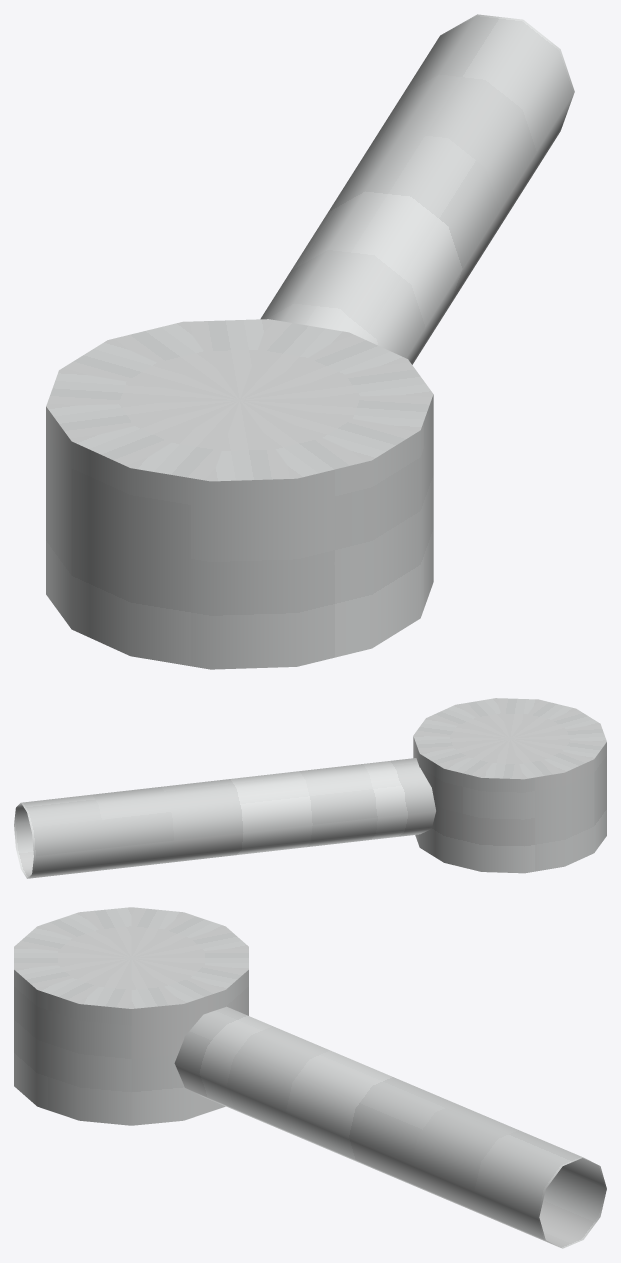
The model's file is trusssignalarm_diagonal8_c0.obj.
The picture shows the model from 3 angles, top to bottom: view 1: azimuth 30°, elevation 25°; view 2: azimuth 150°, elevation 25°; view 3: azimuth 270°, elevation 25°; orthographic projection. The views are drawn at different scales.
Visible parts, largest first — view 1: trusssignalarm_diagonal8_c0; view 2: trusssignalarm_diagonal8_c0; view 3: trusssignalarm_diagonal8_c0.
Boxes of the visible parts, box(x1,y1,x2,y2) form: trusssignalarm_diagonal8_c0: box(46, 14, 574, 669); trusssignalarm_diagonal8_c0: box(14, 698, 606, 878); trusssignalarm_diagonal8_c0: box(14, 907, 606, 1248).
Size of the model in its own units: 2.02 by 0.4375 by 2.01.
